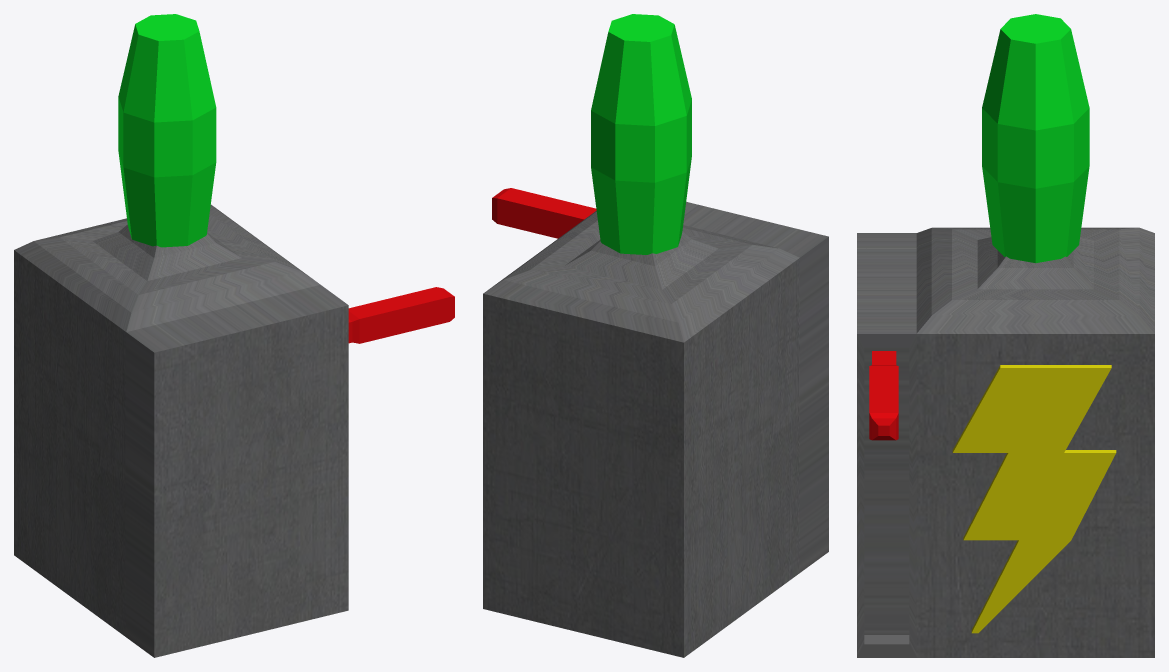
Rendered from Boite électrique.fbx.
3 renders of one model, left to right at view 1: azimuth 30°, elevation 25°; view 2: azimuth 150°, elevation 25°; view 3: azimuth 270°, elevation 25°, orthographic. The views are drawn at different scales.
Visible parts, largest first — view 1: Boite électrique, Led, Levier; view 2: Boite électrique, Led, Levier; view 3: Boite électrique, Led, Logo, Levier.
Part boxes in pixels (left/top/right/bottom): Boite électrique: left=14, top=204, right=348, bottom=657; Led: left=118, top=14, right=216, bottom=247; Levier: left=348, top=287, right=454, bottom=343; Boite électrique: left=483, top=202, right=828, bottom=657; Led: left=591, top=14, right=691, bottom=254; Levier: left=492, top=188, right=596, bottom=238; Boite électrique: left=857, top=227, right=1154, bottom=657; Led: left=982, top=14, right=1089, bottom=263; Logo: left=952, top=365, right=1116, bottom=633; Levier: left=869, top=351, right=898, bottom=440.
Size of the model in its own units: 319 by 536 by 250.
